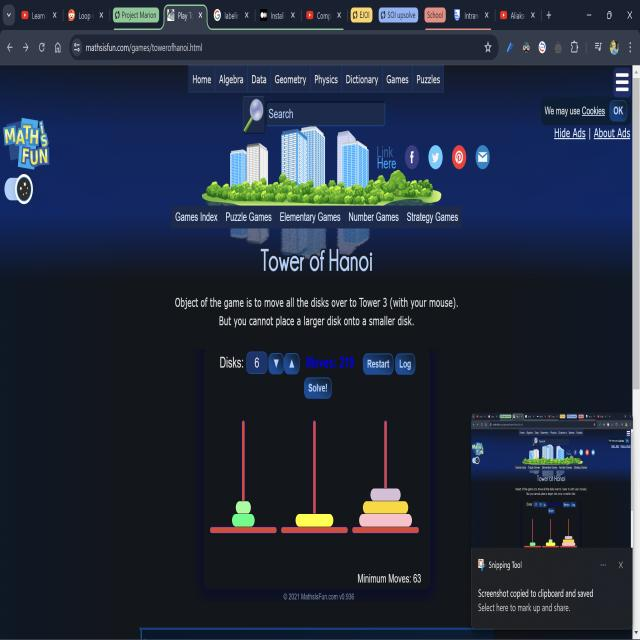disk1: (236, 501, 251, 513)
disk2: (232, 514, 255, 527)
disk3: (370, 488, 400, 501)
disk4: (296, 514, 334, 526)
disk5: (363, 502, 408, 514)
disk6: (359, 514, 412, 527)
